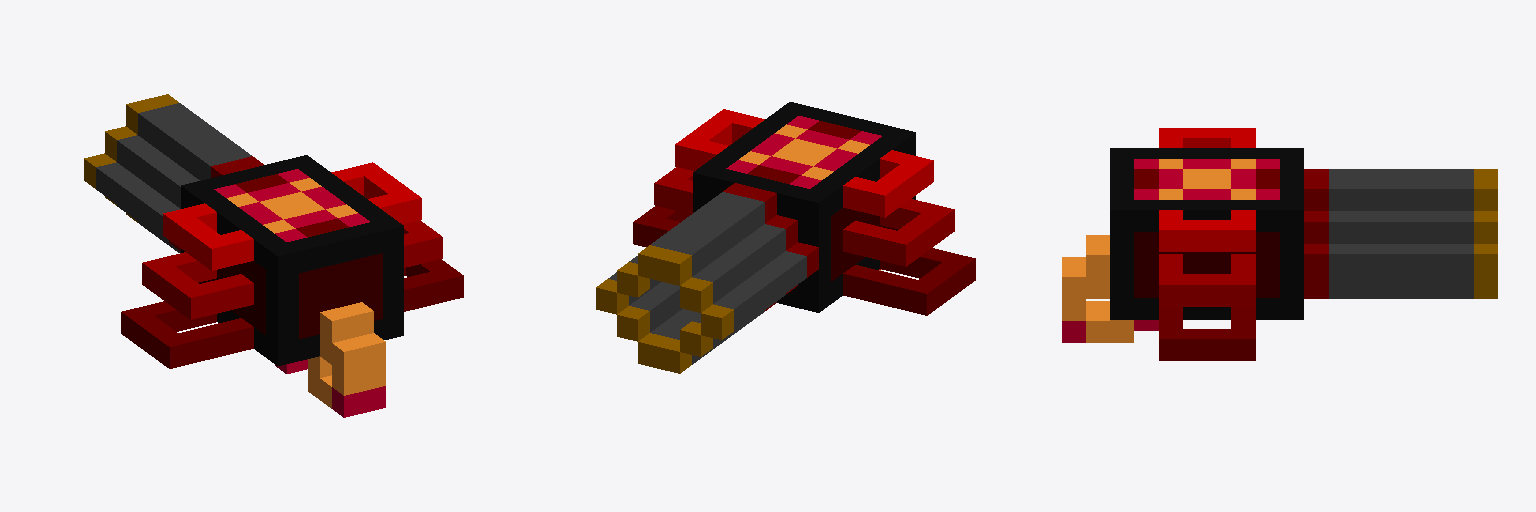
3 views of the same model, side by side, from view 1: azimuth 30°, elevation 25°; view 2: azimuth 150°, elevation 25°; view 3: azimuth 270°, elevation 25° (orthographic).
Visible parts, largest first — view 1: Fire_Mortar; view 2: Fire_Mortar; view 3: Fire_Mortar.
Boxes of the visible parts, x1=… form: Fire_Mortar: x1=84, y1=94, x2=463, y2=417; Fire_Mortar: x1=596, y1=102, x2=975, y2=373; Fire_Mortar: x1=1062, y1=128, x2=1497, y2=360.
Bounding box in the file's own units: 14 × 7 × 18.
1 materials, 1 textured.